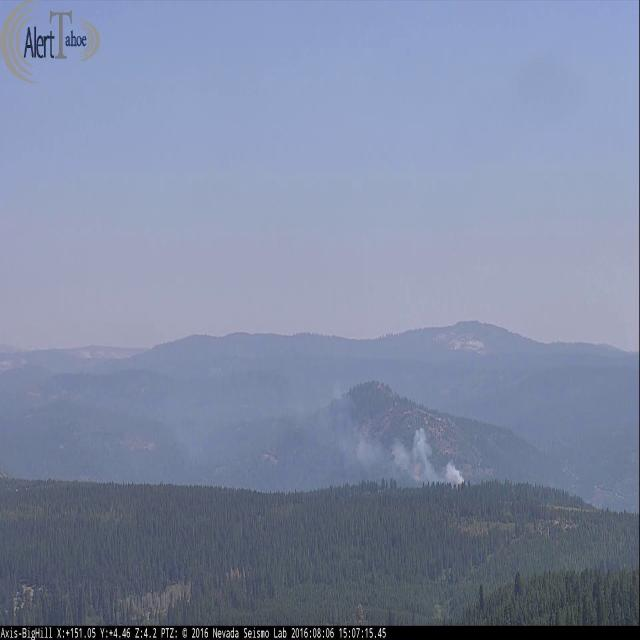smoke: (329, 403, 469, 493)
